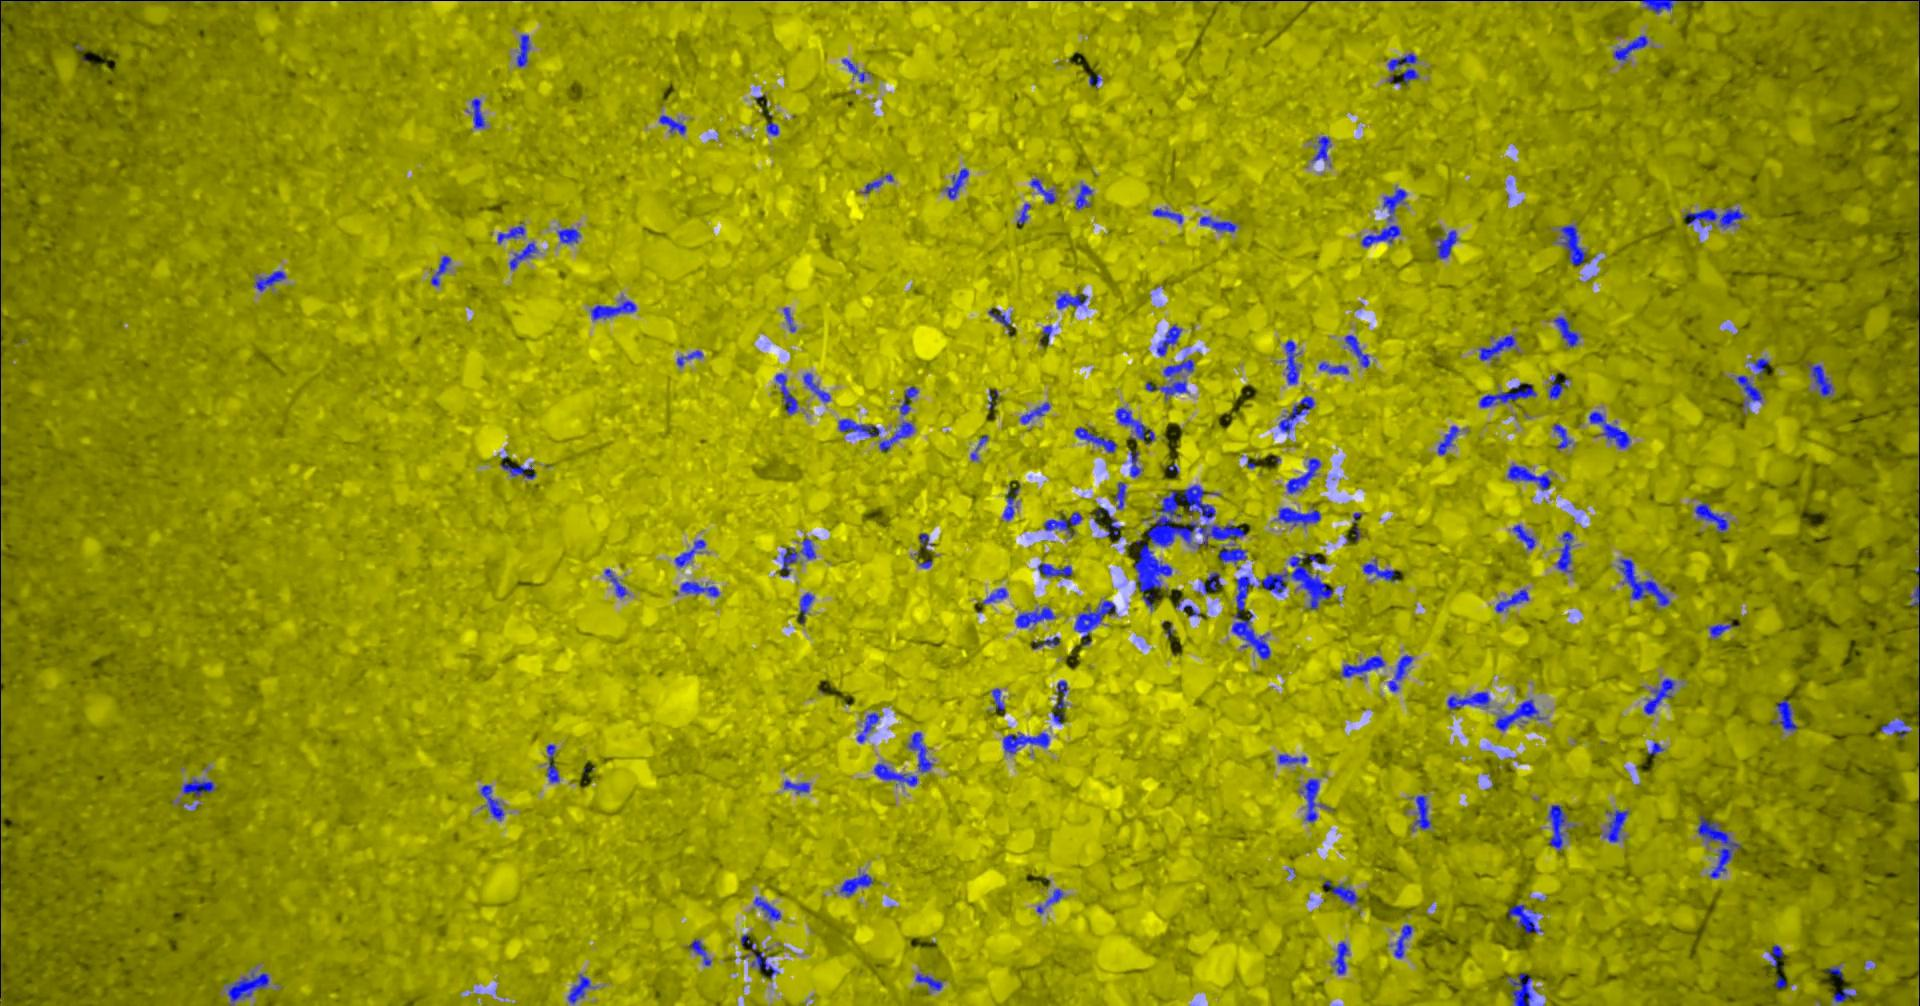ant: (1233, 575, 1272, 659), (1698, 815, 1742, 878), (1135, 539, 1173, 608), (1622, 558, 1671, 605), (1076, 600, 1119, 645), (742, 934, 780, 978), (1497, 699, 1547, 730), (1590, 412, 1630, 448), (229, 970, 270, 1005), (1481, 382, 1538, 406), (781, 537, 817, 575), (1685, 206, 1746, 227), (1280, 396, 1316, 433), (1117, 406, 1156, 439), (1550, 804, 1576, 851), (1288, 459, 1322, 493), (1561, 224, 1589, 265), (1509, 464, 1552, 490), (1644, 678, 1676, 714), (1076, 426, 1117, 452), (909, 730, 935, 772), (1697, 500, 1730, 532), (881, 420, 916, 451), (1509, 904, 1544, 934), (1045, 511, 1083, 537), (1004, 732, 1051, 753), (1389, 53, 1420, 85), (875, 763, 919, 785), (1343, 655, 1385, 678), (1302, 779, 1324, 821), (1389, 654, 1415, 691), (1481, 334, 1516, 359), (676, 539, 707, 567), (1096, 507, 1123, 540), (1509, 972, 1535, 1005), (592, 300, 637, 319), (1810, 363, 1835, 398), (1614, 36, 1650, 60), (777, 373, 799, 413), (1017, 606, 1057, 627), (1773, 699, 1799, 730), (569, 973, 596, 1005), (483, 784, 505, 821), (1605, 809, 1630, 842), (1363, 225, 1401, 246), (1279, 506, 1322, 525), (804, 372, 832, 401), (1324, 880, 1360, 903), (1346, 335, 1371, 367), (1737, 375, 1763, 406), (1496, 589, 1530, 612), (510, 241, 538, 269), (1158, 324, 1183, 354), (1147, 381, 1190, 399), (1364, 559, 1399, 580), (947, 166, 970, 199), (841, 873, 874, 895), (841, 418, 883, 436), (1449, 691, 1491, 709), (1392, 923, 1413, 958), (1286, 339, 1303, 384), (1385, 188, 1408, 220), (1053, 680, 1069, 723), (1556, 316, 1580, 345), (1558, 530, 1575, 572), (1037, 888, 1064, 913), (843, 58, 871, 83), (1435, 229, 1458, 258), (606, 568, 629, 597), (858, 713, 881, 742), (1021, 401, 1051, 423), (1031, 178, 1057, 203), (257, 271, 287, 291), (1164, 359, 1195, 380), (756, 897, 782, 920), (690, 939, 712, 965), (863, 174, 895, 193), (1439, 426, 1460, 453), (432, 255, 452, 285), (184, 779, 217, 796), (682, 580, 720, 596), (1416, 795, 1432, 829), (1201, 216, 1238, 231), (1514, 525, 1537, 549), (1200, 572, 1224, 593), (660, 114, 687, 133), (1004, 486, 1020, 520), (1335, 941, 1350, 974), (902, 386, 919, 414), (502, 464, 537, 478), (1039, 561, 1074, 575), (1882, 719, 1910, 737), (990, 307, 1011, 332), (1554, 423, 1573, 448), (549, 744, 561, 782), (499, 225, 526, 243), (1057, 293, 1090, 307), (1313, 136, 1332, 160), (1642, 0, 1677, 13), (1077, 183, 1095, 208), (971, 434, 989, 460), (983, 587, 1008, 605), (1154, 208, 1183, 224), (917, 973, 943, 989), (1550, 375, 1570, 398), (801, 592, 815, 622), (1710, 622, 1741, 636), (472, 98, 486, 127), (518, 34, 531, 66), (678, 351, 703, 366), (1754, 357, 1770, 379), (1115, 481, 1128, 509), (559, 227, 582, 243), (1834, 987, 1857, 1002), (785, 780, 811, 793), (1321, 362, 1350, 373), (1032, 636, 1062, 648), (993, 688, 1006, 714), (1771, 944, 1785, 967), (785, 307, 797, 332), (1018, 203, 1032, 224), (1131, 450, 1142, 478), (1354, 512, 1363, 541), (1280, 754, 1308, 763), (1826, 967, 1845, 979), (1650, 741, 1665, 754), (1912, 583, 1920, 608), (990, 389, 999, 409), (921, 533, 932, 549), (768, 121, 780, 135)
